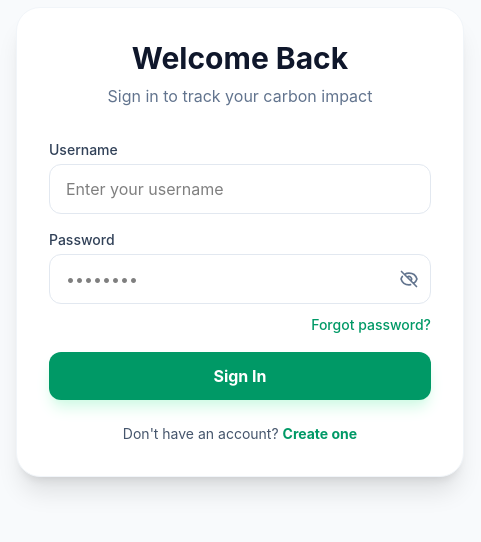
Test case: LoginPage › shows generic error message when API fails without detail
Type "testuser" into the field with placeholder "Enter your username" at (240, 189), box [49, 164, 431, 214]
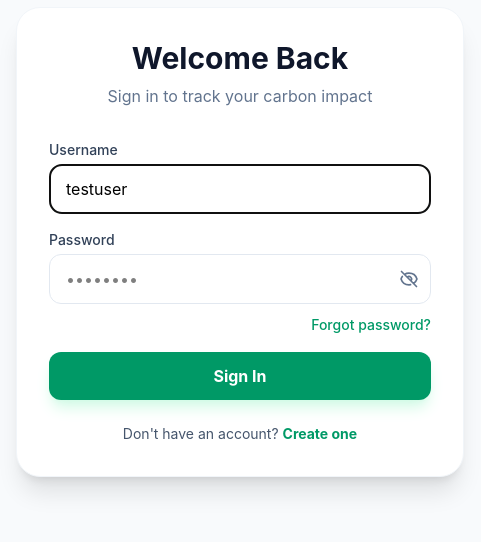
Type "testpass" into the password field with placeholder "••••••••" at (240, 279), box [49, 254, 431, 304]
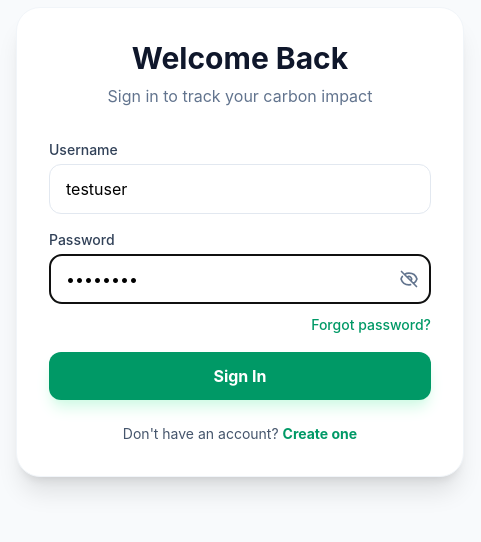
Click the button "Sign In" at (240, 376), box [49, 352, 431, 400]
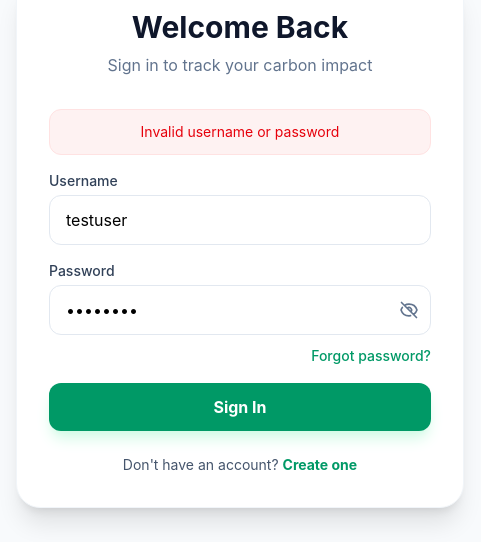
Expected: the text "Invalid username or password" is shown, [49, 109, 431, 155]
